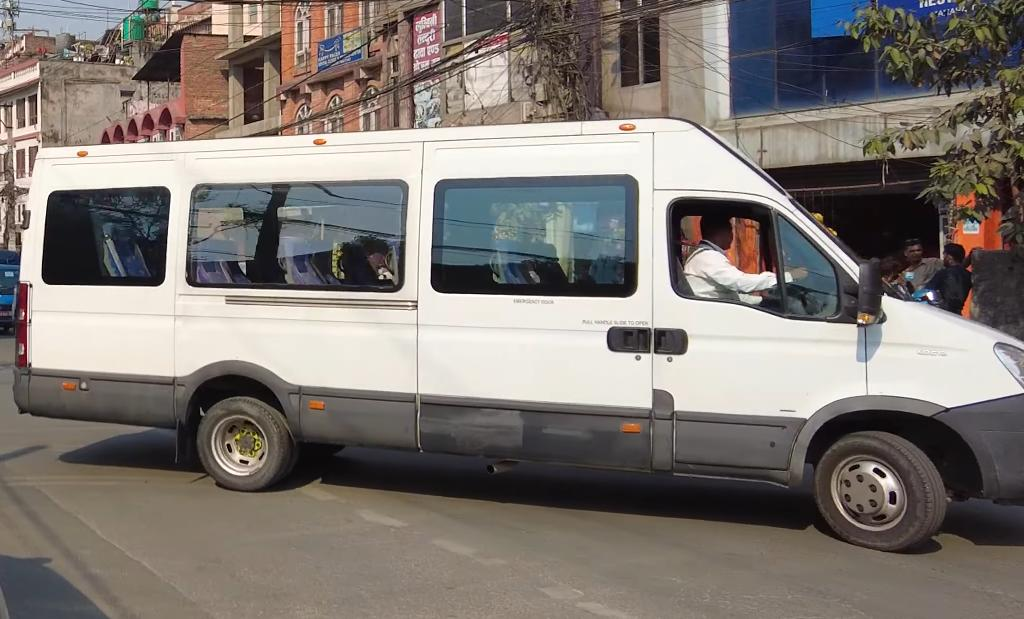micro_bus: (5, 106, 1024, 543)
